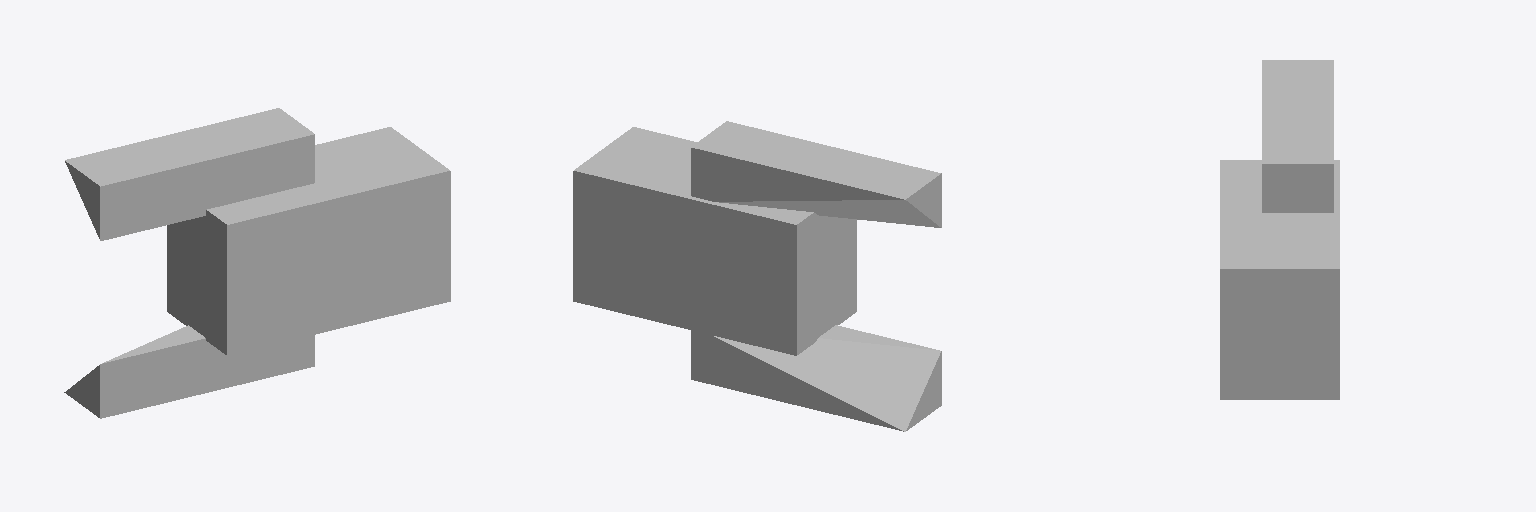
Rendered from drone1headSimple.obj.
3 renders of one model, left to right at view 1: azimuth 30°, elevation 25°; view 2: azimuth 150°, elevation 25°; view 3: azimuth 270°, elevation 25°, orthographic.
Parts seen in each view (by area): view 1: Object.1, Object.3, Object.2; view 2: Object.1, Object.3, Object.2; view 3: Object.1, Object.3.
Part boxes in pixels (left/top/right/bottom): Object.1: left=167, top=127, right=450, bottom=355; Object.3: left=65, top=108, right=314, bottom=240; Object.2: left=64, top=325, right=314, bottom=418; Object.1: left=573, top=127, right=856, bottom=355; Object.3: left=691, top=121, right=941, bottom=227; Object.2: left=691, top=325, right=941, bottom=431; Object.1: left=1220, top=160, right=1339, bottom=399; Object.3: left=1262, top=60, right=1333, bottom=212.
Size of the model in its own units: 26.55 by 17.9 by 8.38.